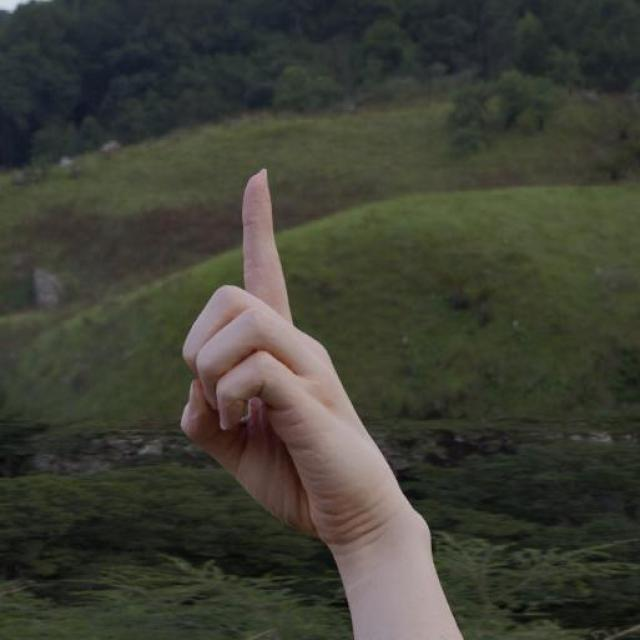D: (172, 164, 399, 545)
